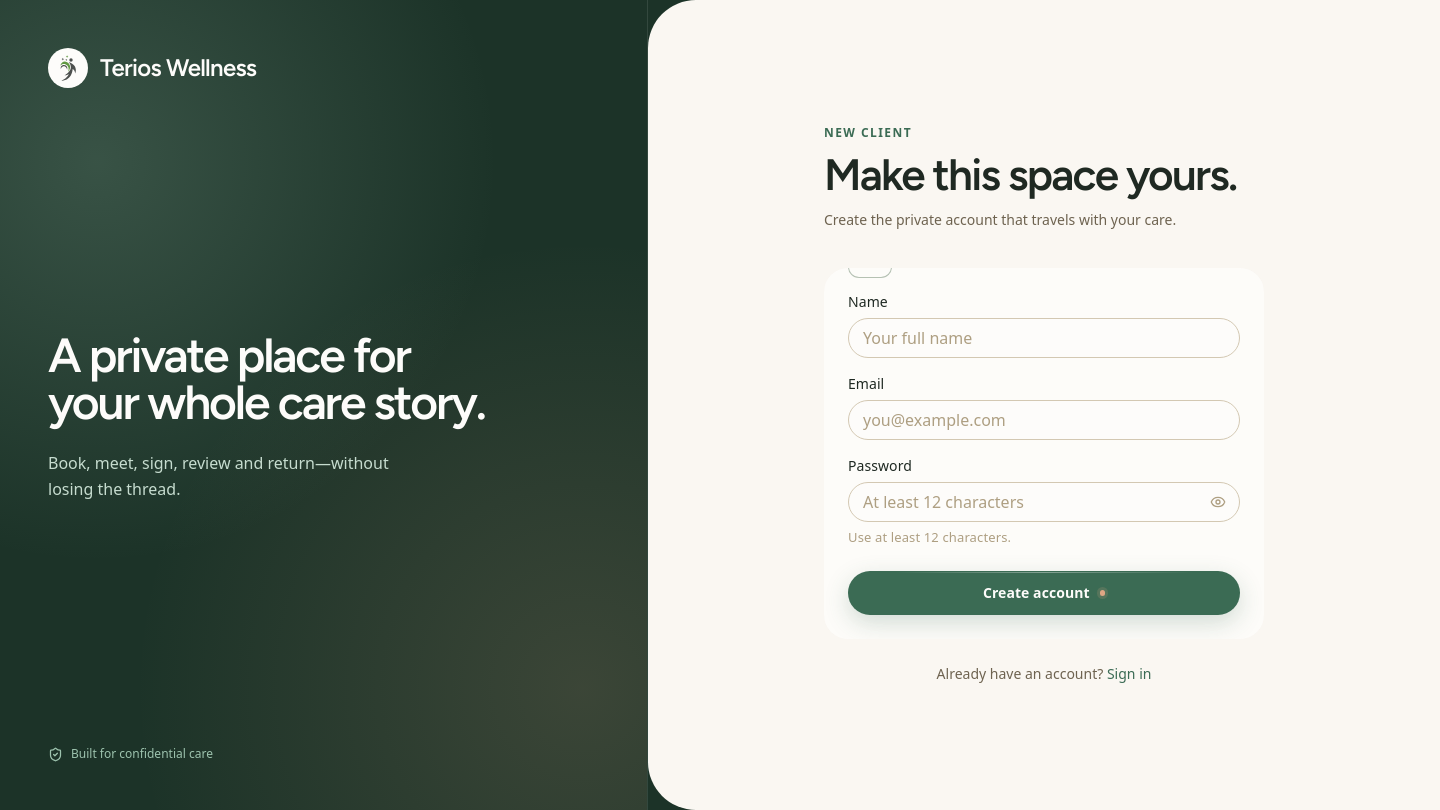
Scenario: RegisterPage › enforces the 12-character password rule with a branded message
The width and height of the screenshot is (1440, 810).
Type "Ama Serwaa" into the field labelled "Name" at point(1044, 338), box top-left (848, 318), bottom-right (1240, 358)
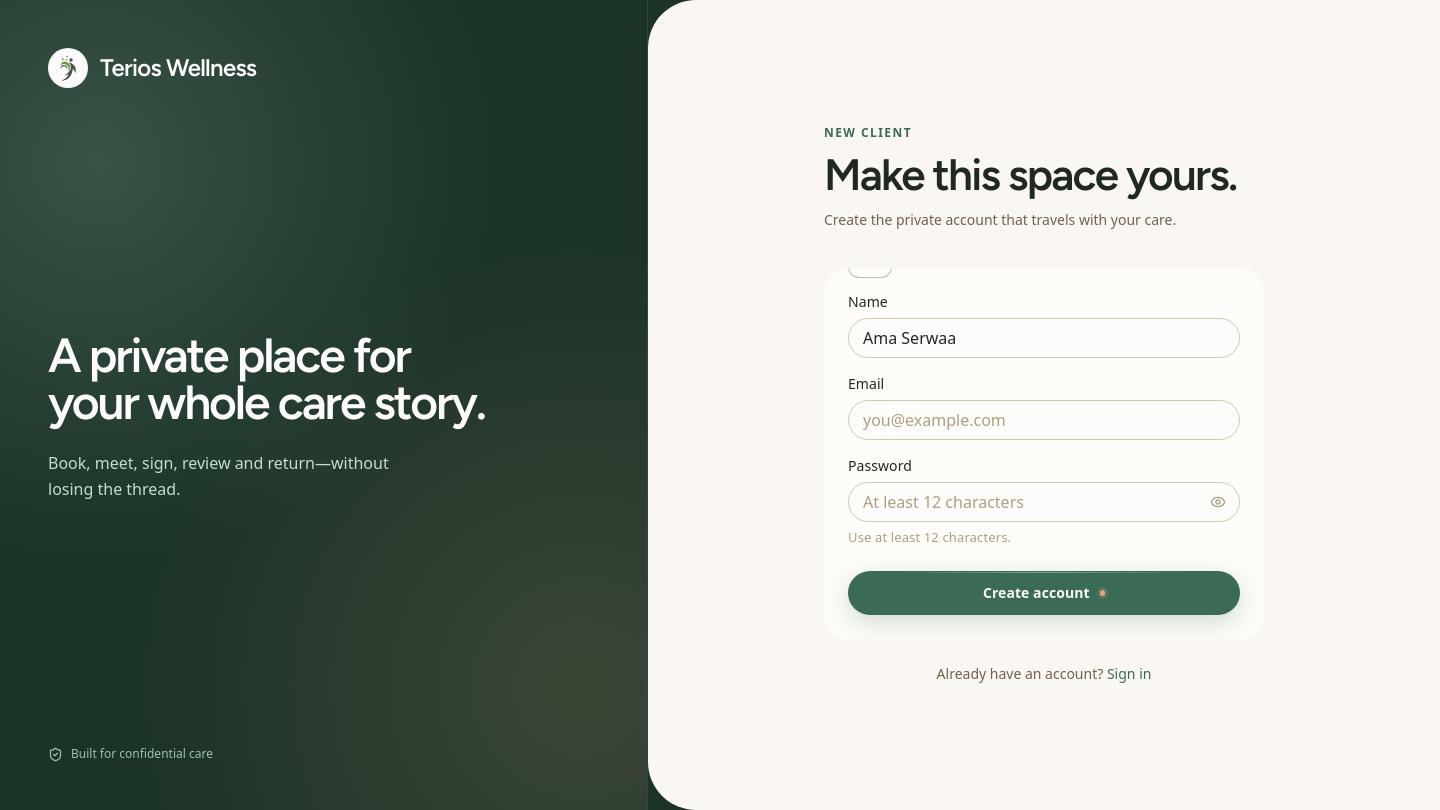
Type "ama@example.com" into the field labelled "Email" at point(1044, 420), box top-left (848, 400), bottom-right (1240, 440)
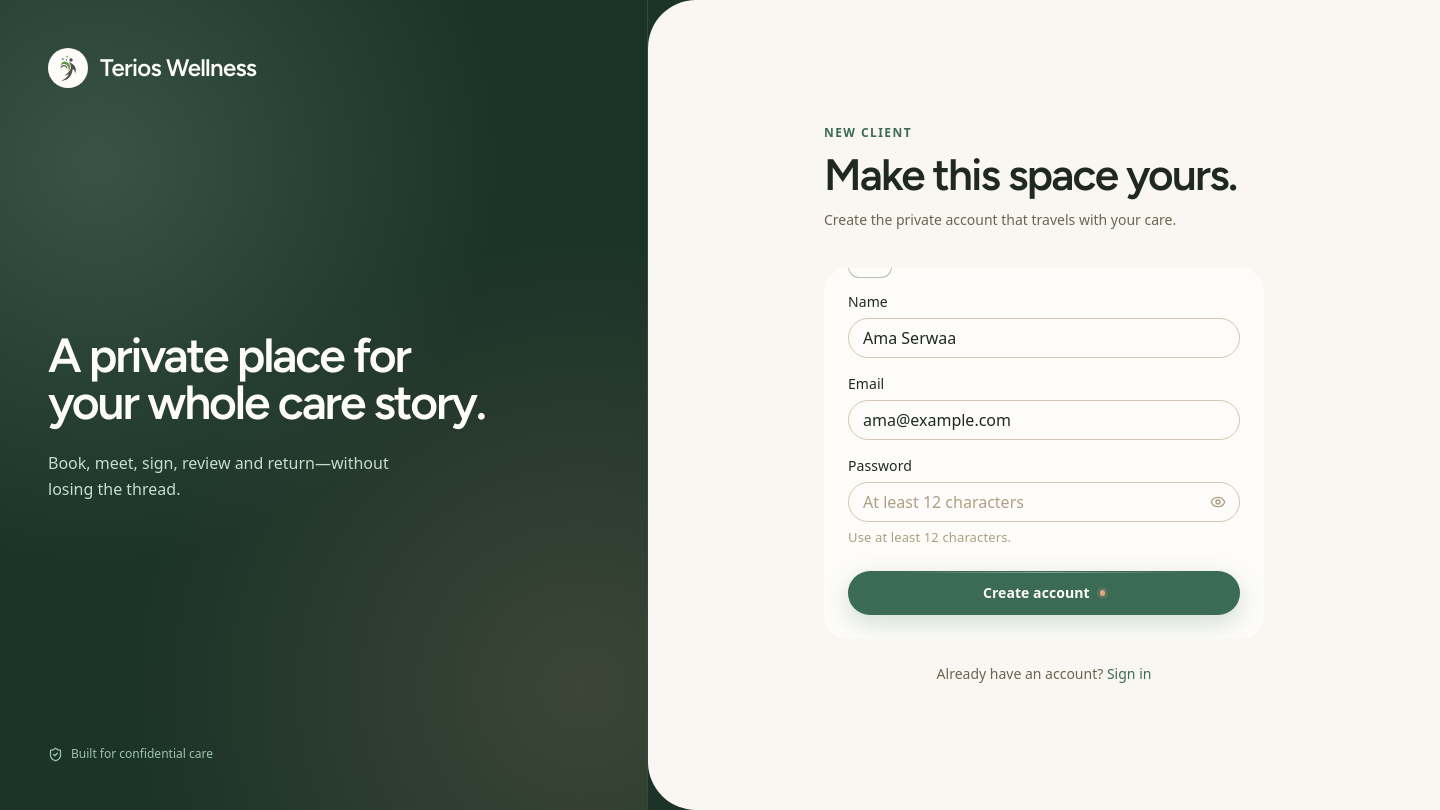
Type "short" into the password field labelled "Password" at point(1044, 502), box top-left (848, 482), bottom-right (1240, 522)
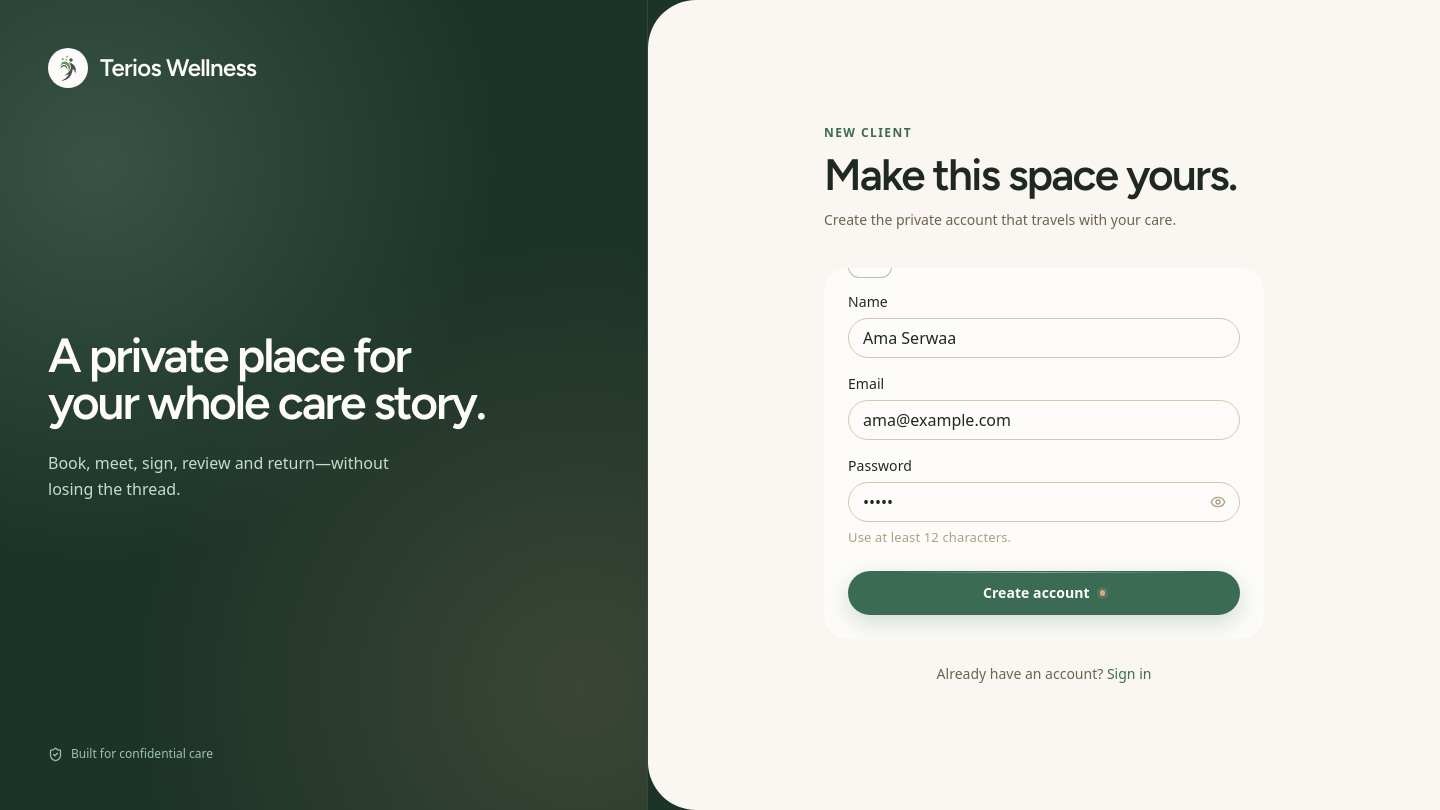
Submit the form "Create account", box top-left (848, 292), bottom-right (1240, 615)
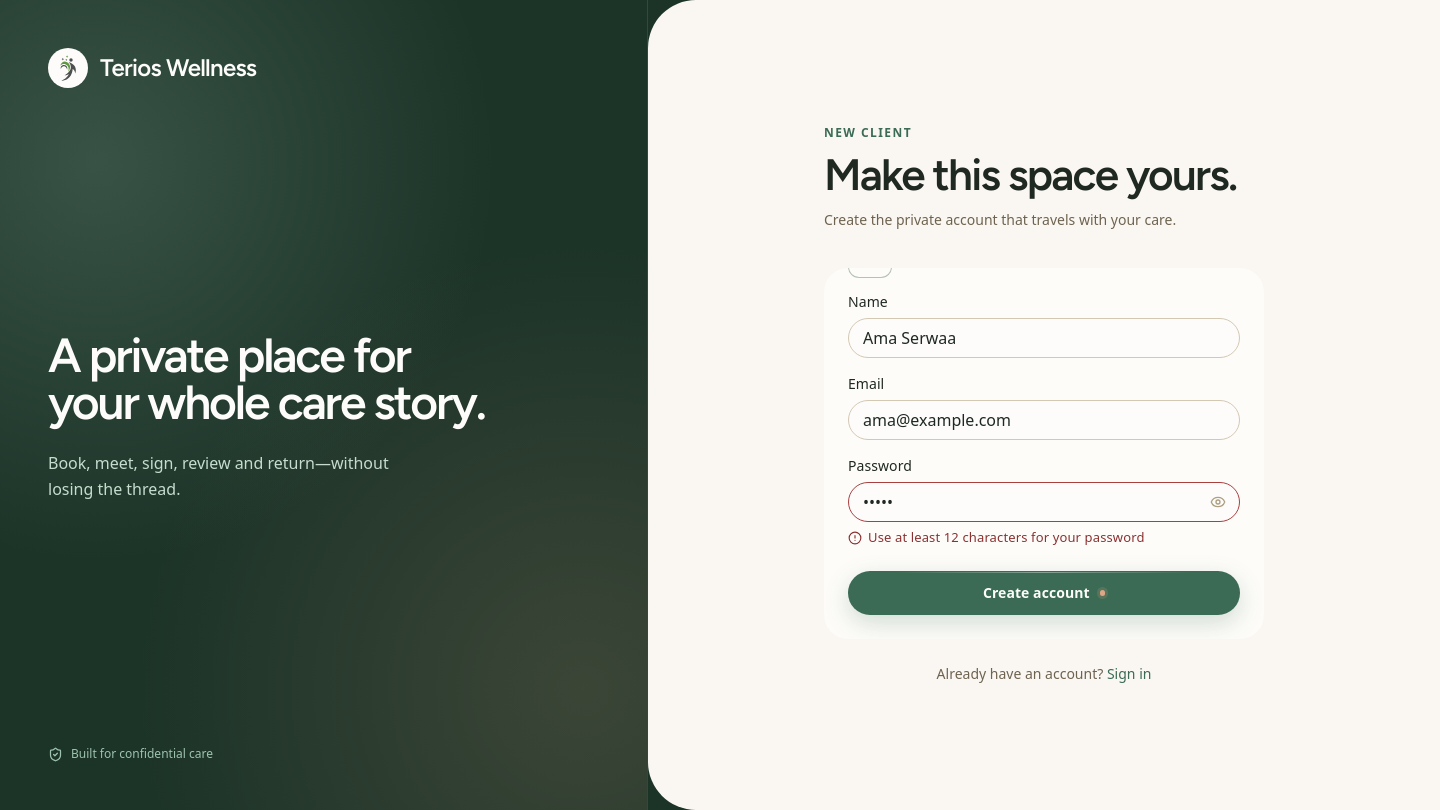
Check: the text "Use at least 12 characters for your password" is shown, box top-left (848, 528), bottom-right (1145, 546)
